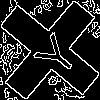Y: (25, 25, 82, 81)
